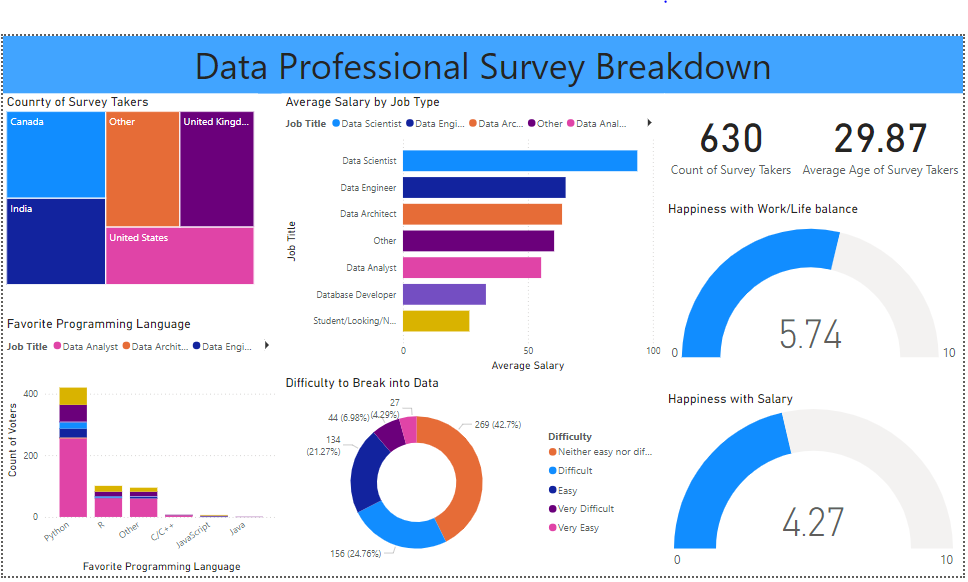

This screenshot's page, from the dashboard's own definition file:
{"tool":"powerbi","page":{"name":"Page 1","canvas":[1280,720],"ordinal":0},"visuals":[{"type":"textbox","box":[0,0,1280,76.7],"z":0},{"type":"card","fields":{"Values":["Count(Data Professional Survey.Unique ID)"]},"box":[881.7,76.7,178.3,125],"z":1000},{"type":"card","fields":{"Values":["Avg(Data Professional Survey.Q10 - Current Age)"]},"box":[1060,76.7,220,125],"z":2000},{"type":"barChart","title":"Average Salary by Job Type","fields":{"Category":["Data Professional Survey.Q1 - Which Title Best Fits your Current Role?.1"],"Y":["Avg(Data Professional Survey.Average Salary)"],"Series":["Data Professional Survey.Q1 - Which Title Best Fits your Current Role?.1"]},"box":[371.7,76.7,510,375],"z":3000},{"type":"columnChart","title":"Favorite Programming Language","fields":{"Category":["Data Professional Survey.Q5 - Favorite Programming Language.1"],"Y":["CountNonNull(Data Professional Survey.Unique ID)"],"Series":["Data Professional Survey.Q1 - Which Title Best Fits your Current Role?.1"]},"box":[0,373.3,371.7,346.7],"z":4000},{"type":"treemap","title":"Counrty of Survey Takers","fields":{"Group":["Data Professional Survey.Q11 - Which Country do you live in?.1"],"Values":["Count(Data Professional Survey.Q11 - Which Country do you live in?.1)"]},"box":[0,76.7,340,260],"z":4001},{"type":"gauge","title":"Happiness with Work/Life balance","fields":{"Y":["Avg(Data Professional Survey.Q6 - How Happy are you in your Current Position with the following? (Work/Life Balance))"],"MinValue":["Min(Data Professional Survey.Q6 - How Happy are you in your Current Position with the following? (Work/Life Balance))1"],"MaxValue":["Max(Data Professional Survey.Q6 - How Happy are you in your Current Position with the following? (Work/Life Balance))2"]},"box":[881.7,220,398.3,231.7],"z":4002},{"type":"gauge","title":"Happiness with Salary","fields":{"Y":["Avg(Data Professional Survey.Q6 - How Happy are you in your Current Position with the following? (Salary))"],"MinValue":["Min(Data Professional Survey.Q6 - How Happy are you in your Current Position with the following? (Salary))"],"MaxValue":["Max(Data Professional Survey.Q6 - How Happy are you in your Current Position with the following? (Salary))"]},"box":[881.7,473.3,398.3,246.7],"z":4003},{"type":"donutChart","title":"Difficulty to Break into Data","fields":{"Category":["Data Professional Survey.Q7 - How difficult was it for you to break into Data?"],"Y":["CountNonNull(Data Professional Survey.Q7 - How difficult was it for you to break into Data?)"]},"box":[371.7,451.7,510,268.3],"z":4004}]}

Visuals, with their boxes on the page's 1280x720 design canvas (x1, y1, x2, y2). These are canvas units, not pixel positions in the 968x582 screenshot, which may show the page scaled, cropped or inside an application window:
textbox: x1=0, y1=0, x2=1280, y2=77
card - Count(Data Professional Survey.Unique ID): x1=882, y1=77, x2=1060, y2=202
card - Avg(Data Professional Survey.Q10 - Current Age): x1=1060, y1=77, x2=1280, y2=202
"Average Salary by Job Type" barChart: x1=372, y1=77, x2=882, y2=452
"Favorite Programming Language" columnChart: x1=0, y1=373, x2=372, y2=720
"Counrty of Survey Takers" treemap: x1=0, y1=77, x2=340, y2=337
"Happiness with Work/Life balance" gauge: x1=882, y1=220, x2=1280, y2=452
"Happiness with Salary" gauge: x1=882, y1=473, x2=1280, y2=720
"Difficulty to Break into Data" donutChart: x1=372, y1=452, x2=882, y2=720
